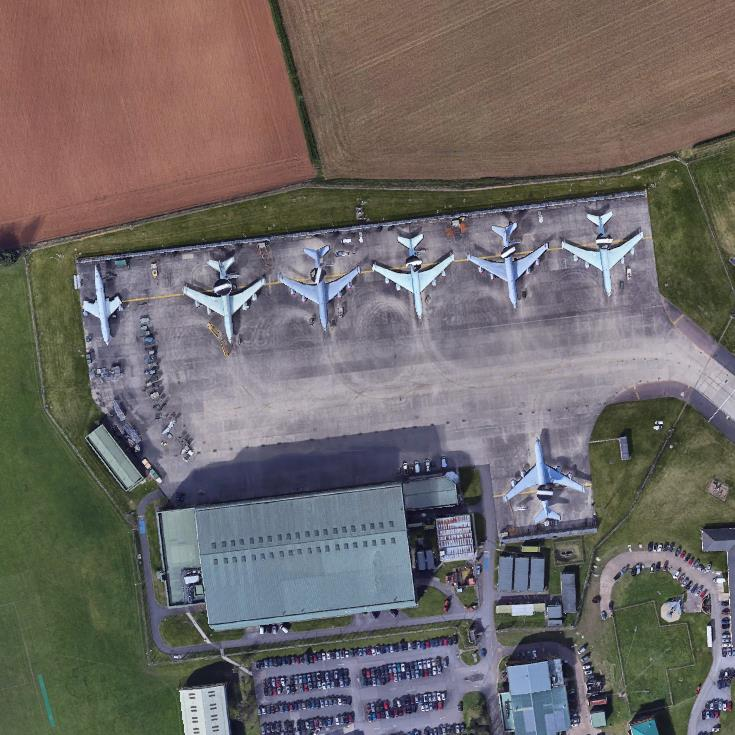A7: (500, 433, 589, 528), (560, 208, 646, 300), (465, 221, 552, 311), (181, 255, 267, 346), (278, 244, 363, 334), (371, 234, 456, 321)
